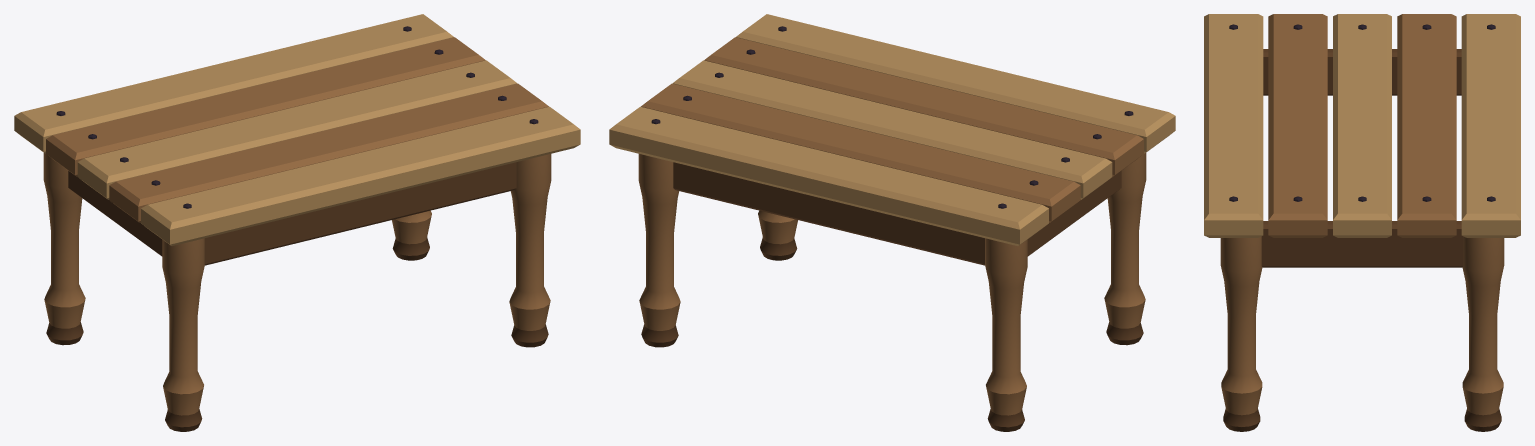
The model's file is Table_03.glb.
3 views of the same model, side by side, from view 1: azimuth 30°, elevation 25°; view 2: azimuth 150°, elevation 25°; view 3: azimuth 270°, elevation 25° (orthographic).
Visible parts, largest first — view 1: Table_03; view 2: Table_03; view 3: Table_03.
Boxes of the visible parts, x1=… form: Table_03: x1=14, y1=14, x2=580, y2=431; Table_03: x1=609, y1=14, x2=1175, y2=431; Table_03: x1=1204, y1=14, x2=1520, y2=431.
Bounding box in the file's own units: 5.74 × 2.99 × 3.77.
